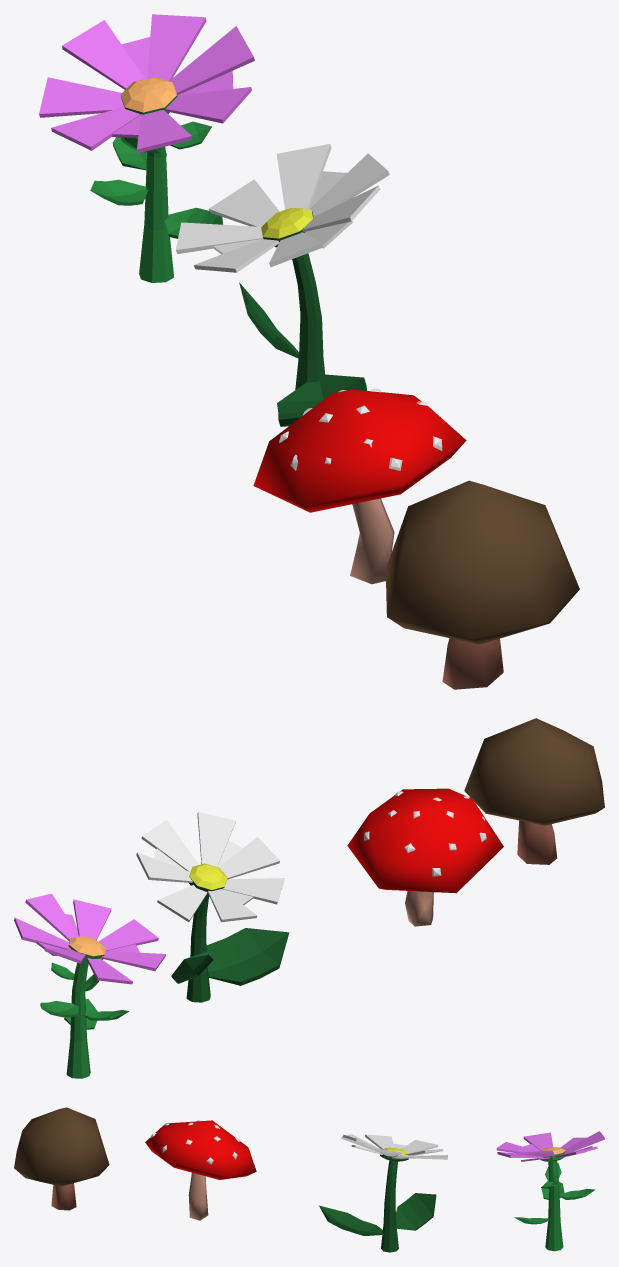
The model's file is FlowersAndShrooms.fbx.
3 renders of one model, top to bottom at view 1: azimuth 30°, elevation 25°; view 2: azimuth 150°, elevation 25°; view 3: azimuth 270°, elevation 25°, orthographic. The views are drawn at different scales.
Parts seen in each view (by area): view 1: Pilz normal, Blume Rosa, Fliegenpilz, Blume weiß; view 2: Blume weiß, Fliegenpilz, Pilz normal, Blume Rosa; view 3: Pilz normal, Fliegenpilz, Blume weiß, Blume Rosa.
Part boxes in pixels (<box>): Pilz normal: <box>385,480,579,689</box>; Blume Rosa: <box>39,14,254,282</box>; Fliegenpilz: <box>253,388,466,584</box>; Blume weiß: <box>176,144,389,426</box>; Blume weiß: <box>136,812,289,1002</box>; Fliegenpilz: <box>347,788,503,926</box>; Pilz normal: <box>464,718,604,864</box>; Blume Rosa: <box>14,893,165,1078</box>; Pilz normal: <box>14,1107,109,1210</box>; Fliegenpilz: <box>145,1120,256,1220</box>; Blume weiß: <box>319,1134,447,1252</box>; Blume Rosa: <box>496,1131,604,1251</box>.
Bounding box in the file's own units: 342 × 226 × 1011.
